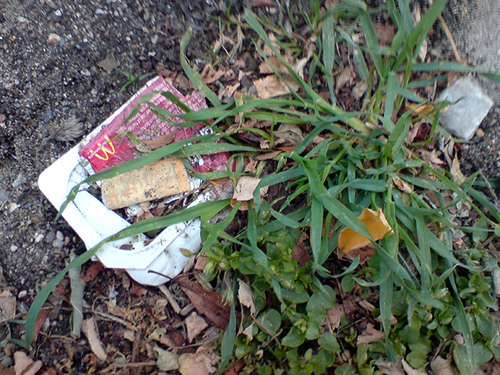litter: (36, 72, 234, 283)
